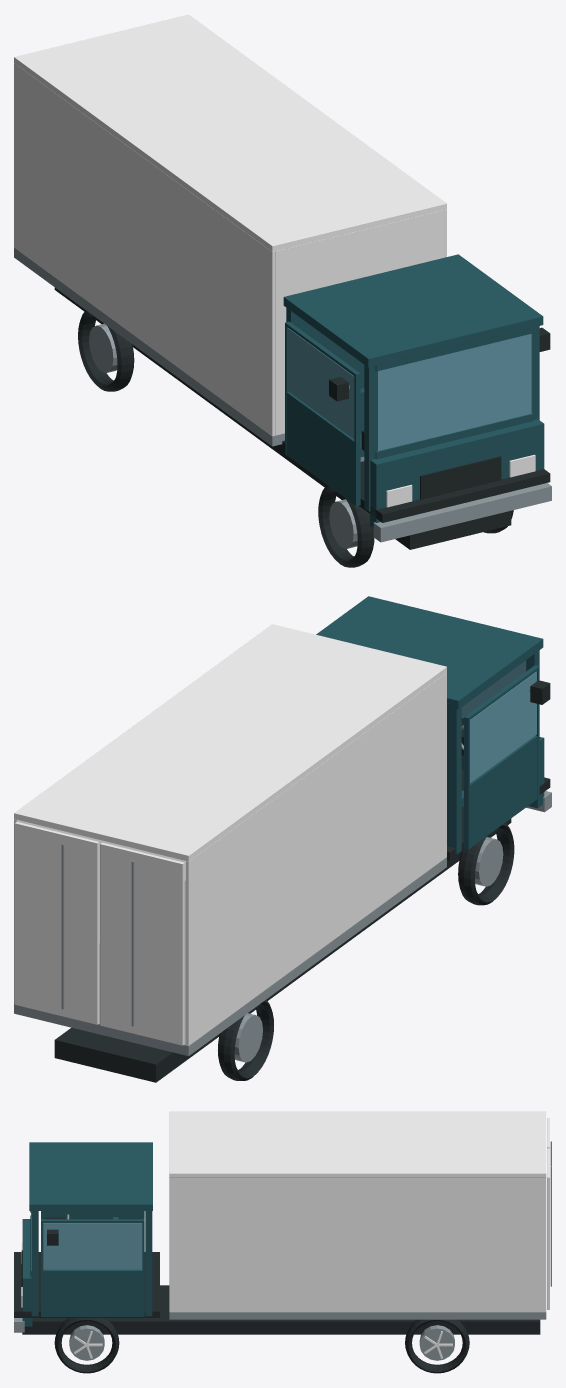
File: cargo-truck.glb
3 views of the same model, one above another, from view 1: azimuth 30°, elevation 25°; view 2: azimuth 150°, elevation 25°; view 3: azimuth 270°, elevation 25° (orthographic). The views are drawn at different scales.
Visible parts, largest first — view 1: Cargo_Side.001, Cargo_Roof, Cab_Roof, Windscreen, Cargo_Front, Front_Fascia, Cab_Door_Lower.001, Cab_Door_Pane.001, Front_Bumper, Cargo_Floor, Cab_Floor, Chassis (+11 smaller); view 2: Cargo_Side.001, Cargo_Roof, Loading_Door.001, Loading_Door, Cab_Roof, Chassis, Cargo_Floor, Cab_Door_Lower.001, Cab_Door_Pane.001, Tyre_FL, Tyre_RL, Cab_B_Pillar.001 (+8 smaller); view 3: Cargo_Side, Cargo_Roof, Cab_Roof, Chassis, Cab_Door_Lower, Cab_Door_Pane, Cargo_Floor, Cab_Floor, Tyre_FR, Tyre_RR, Front_Fascia, Hub_FR (+6 smaller).
Boxes of the visible parts, <box> form: Cargo_Side.001: <box>14,63,274,436</box>; Cargo_Roof: <box>14,14,446,251</box>; Cab_Roof: <box>283,254,543,367</box>; Windscreen: <box>377,333,531,451</box>; Cargo_Front: <box>275,210,444,435</box>; Front_Fascia: <box>370,419,544,527</box>; Cab_Door_Lower.001: <box>287,392,360,505</box>; Cab_Door_Pane.001: <box>287,328,354,439</box>; Front_Bumper: <box>373,483,551,542</box>; Cargo_Floor: <box>14,247,284,446</box>; Cab_Floor: <box>282,440,550,522</box>; Chassis: <box>54,287,511,549</box>; Cargo_Side.001: <box>186,673,446,1045</box>; Cargo_Roof: <box>14,624,446,861</box>; Loading_Door.001: <box>14,822,99,1024</box>; Loading_Door: <box>100,842,184,1045</box>; Cab_Roof: <box>316,596,543,709</box>; Chassis: <box>54,818,511,1082</box>; Cargo_Floor: <box>14,857,446,1056</box>; Cab_Door_Lower.001: <box>464,735,537,849</box>; Cab_Door_Pane.001: <box>470,671,536,782</box>; Tyre_FL: <box>458,823,514,905</box>; Tyre_RL: <box>218,1000,273,1080</box>; Cab_B_Pillar.001: <box>448,707,461,854</box>; Cargo_Side: <box>169,1178,546,1312</box>; Cargo_Roof: <box>169,1111,546,1177</box>; Cab_Roof: <box>29,1142,152,1210</box>; Chassis: <box>22,1285,540,1334</box>; Cab_Door_Lower: <box>43,1269,142,1316</box>; Cab_Door_Pane: <box>43,1223,142,1269</box>; Cargo_Floor: <box>169,1312,546,1319</box>; Cab_Floor: <box>14,1252,159,1317</box>; Tyre_FR: <box>54,1318,119,1373</box>; Tyre_RR: <box>405,1319,469,1373</box>; Front_Fascia: <box>22,1219,32,1326</box>; Hub_FR: <box>69,1325,104,1360</box>.
Size of the model in its own units: 3.05 by 3.84 by 9.14.
